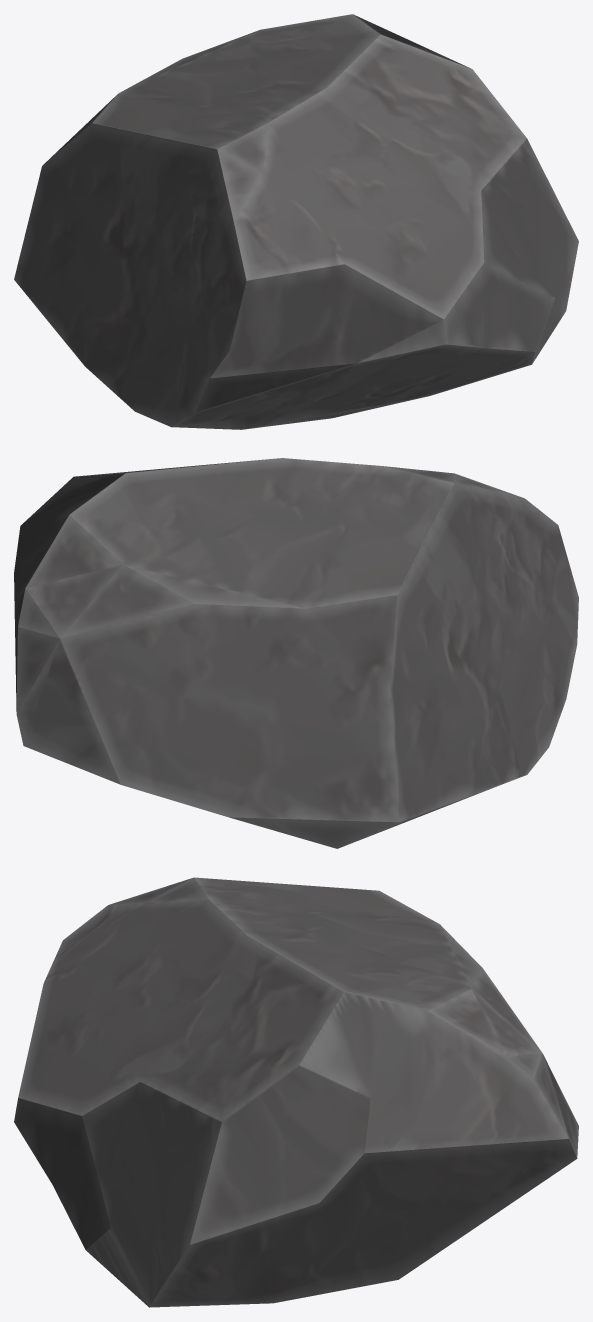
Rendered from rock_small.glb.
3 views of the same model, one above another, from view 1: azimuth 30°, elevation 25°; view 2: azimuth 150°, elevation 25°; view 3: azimuth 270°, elevation 25° (orthographic). The views are drawn at different scales.
Parts seen in each view (by area): view 1: Cube.002; view 2: Cube.002; view 3: Cube.002.
Part boxes in pixels (x1,y1,x2,y2): Cube.002: [14, 14, 578, 429]; Cube.002: [14, 458, 578, 848]; Cube.002: [14, 877, 578, 1307].
Size of the model in its own units: 3.3 by 2.25 by 3.48.
1 material, 1 textured.
